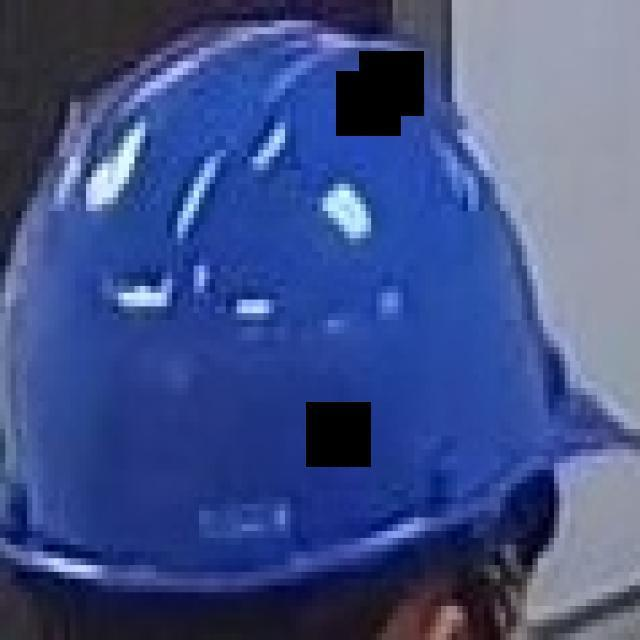helmet: (3, 12, 636, 582)
